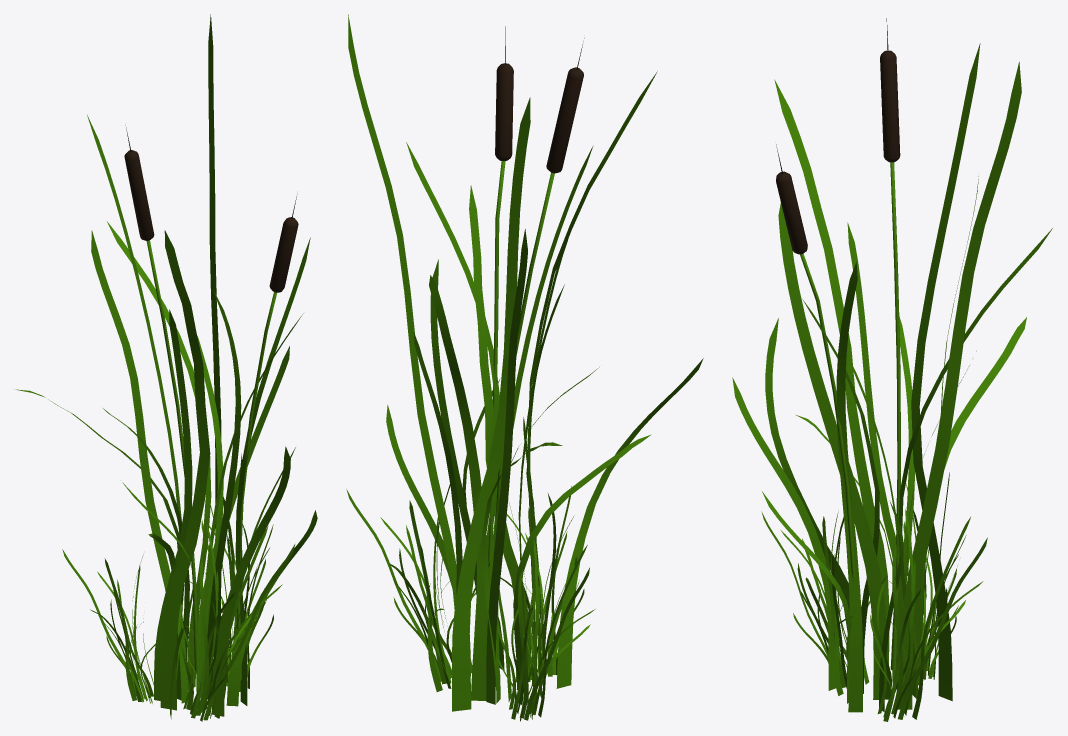
The model's file is cattails.glb.
3 renders of one model, left to right at view 1: azimuth 30°, elevation 25°; view 2: azimuth 150°, elevation 25°; view 3: azimuth 270°, elevation 25°, orthographic. The views are drawn at different scales.
Visible parts, largest first — view 1: Object_4; view 2: Object_4; view 3: Object_4.
Boxes of the visible parts, x1,y1,x2,y2 form: Object_4: (14, 14, 317, 721); Object_4: (346, 14, 703, 721); Object_4: (732, 18, 1052, 721).
Bounding box in the file's own units: 0.6123 × 1.61 × 0.6953.
Materials: 1 (1 with a texture image).
